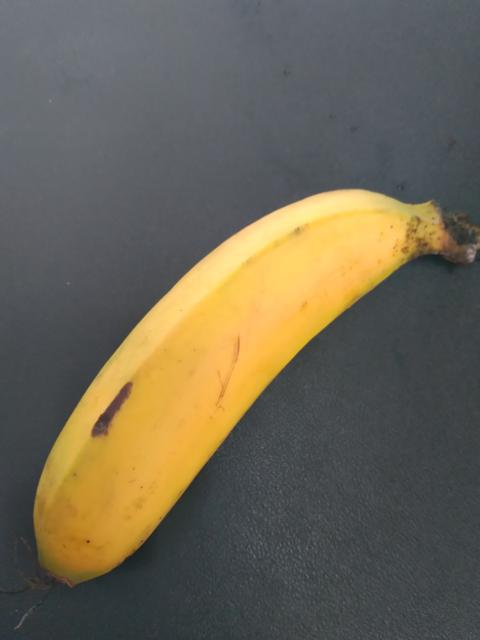freshripe: (0, 169, 421, 623)
